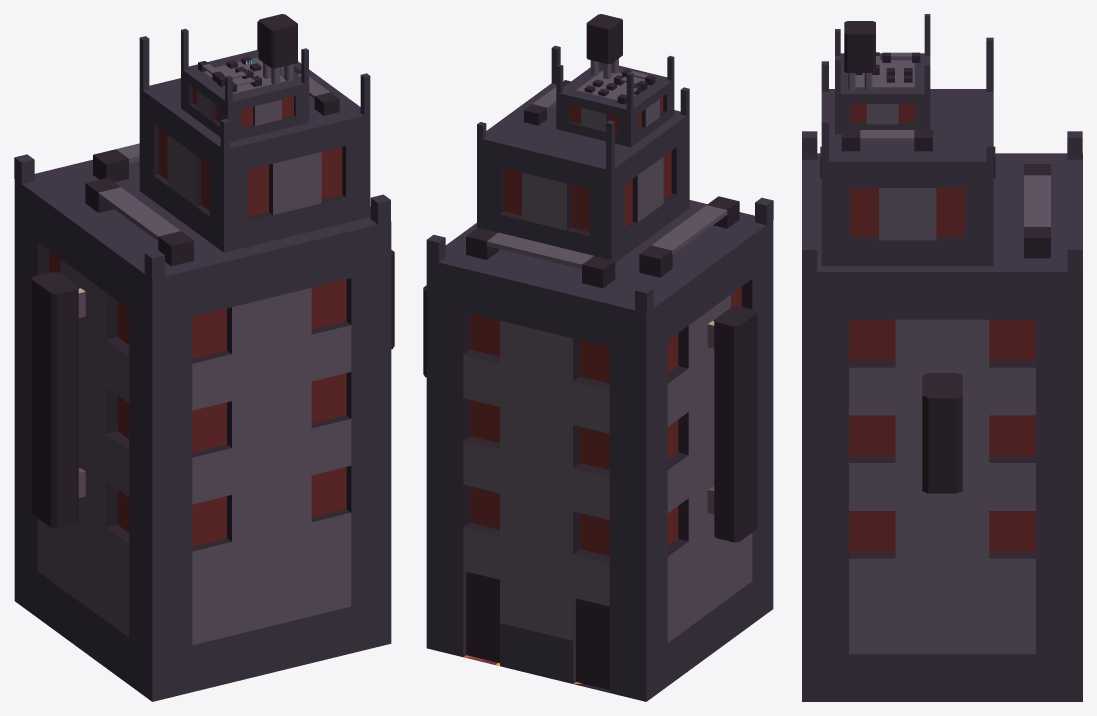
Rendered from Tower-1-3.fbx.
The picture shows the model from 3 angles, left to right: view 1: azimuth 30°, elevation 25°; view 2: azimuth 150°, elevation 25°; view 3: azimuth 270°, elevation 25°; orthographic projection. The views are drawn at different scales.
Parts seen in each view (by area): view 1: Tower-1-3.001; view 2: Tower-1-3.001; view 3: Tower-1-3.001.
Boxes of the visible parts, x1=… form: Tower-1-3.001: x1=14, y1=14, x2=394, y2=701; Tower-1-3.001: x1=423, y1=14, x2=773, y2=701; Tower-1-3.001: x1=802, y1=14, x2=1082, y2=701.
Bounding box in the file's own units: 98.1 × 168 × 67.63.
